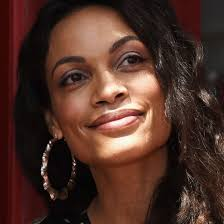indian_female: (10, 1, 209, 185)
